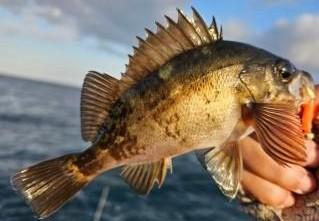fish: (12, 2, 315, 220)
